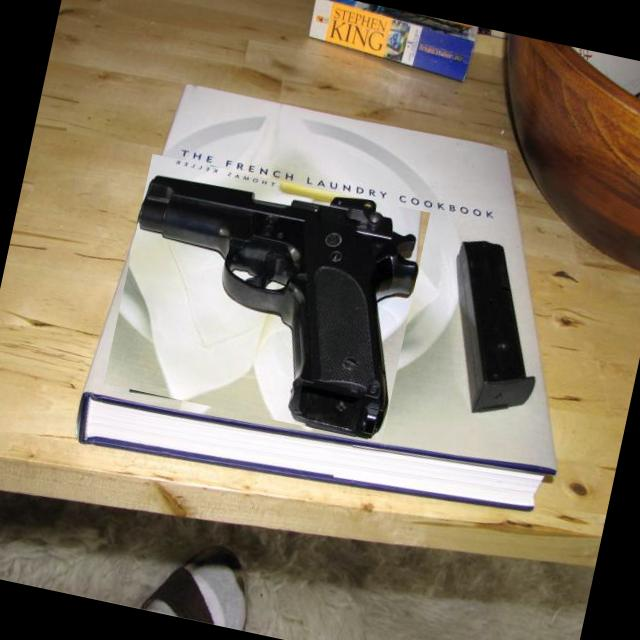Gun: (138, 176, 418, 438)
